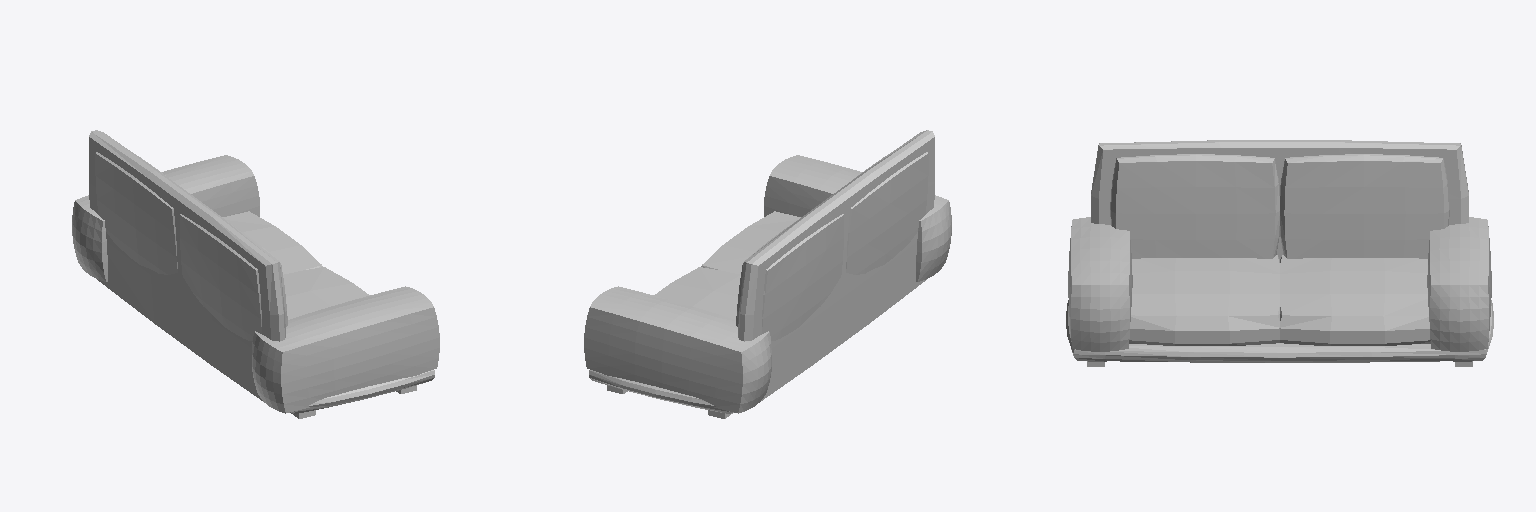
Rendered from gt_couch.obj.
3 renders of one model, left to right at view 1: azimuth 30°, elevation 25°; view 2: azimuth 150°, elevation 25°; view 3: azimuth 270°, elevation 25°, orthographic.
Parts seen in each view (by area): view 1: Cube.004, Cube.003, Cube.005, Cube, Cube.002; view 2: Cube.004, Cube.003, Cube.005, Cube, Cube.002; view 3: Cube.005, Cube, Cube.004, Cube.003, Cube.006_Cube.008, Cube.002.
Boxes of the visible parts, x1=… form: Cube.004: x1=72, y1=155, x2=439, y2=413; Cube.003: x1=89, y1=130, x2=285, y2=400; Cube.005: x1=95, y1=152, x2=287, y2=340; Cube: x1=223, y1=211, x2=369, y2=319; Cube.002: x1=291, y1=370, x2=434, y2=413; Cube.004: x1=584, y1=155, x2=951, y2=413; Cube.003: x1=738, y1=130, x2=934, y2=400; Cube.005: x1=736, y1=152, x2=928, y2=340; Cube: x1=654, y1=211, x2=800, y2=319; Cube.002: x1=589, y1=370, x2=732, y2=413; Cube.005: x1=1110, y1=154, x2=1449, y2=258; Cube: x1=1129, y1=255, x2=1430, y2=345; Cube.004: x1=1068, y1=217, x2=1491, y2=351; Cube.003: x1=1091, y1=140, x2=1468, y2=258; Cube.006_Cube.008: x1=1105, y1=343, x2=1454, y2=362; Cube.002: x1=1066, y1=300, x2=1493, y2=361.
Size of the model in its own units: 5.56 by 4.91 by 11.98.